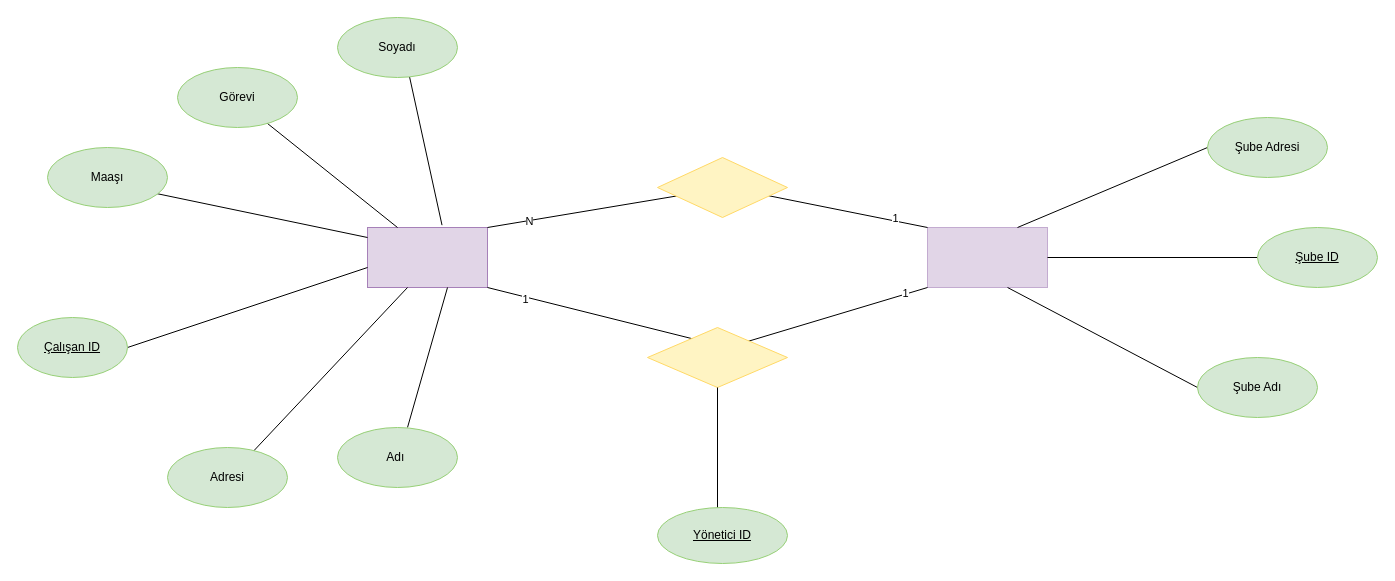
This 1395x581 diagram has some shape labels left out. The centre of each missing label's shape, as x and y in pixels:
"Yönetir" belongs at point 717,357.
"ÇALIŞAN" belongs at point 427,257.
"Çalışır" belongs at point 722,187.
"ŞUBE" belongs at point 987,257.
